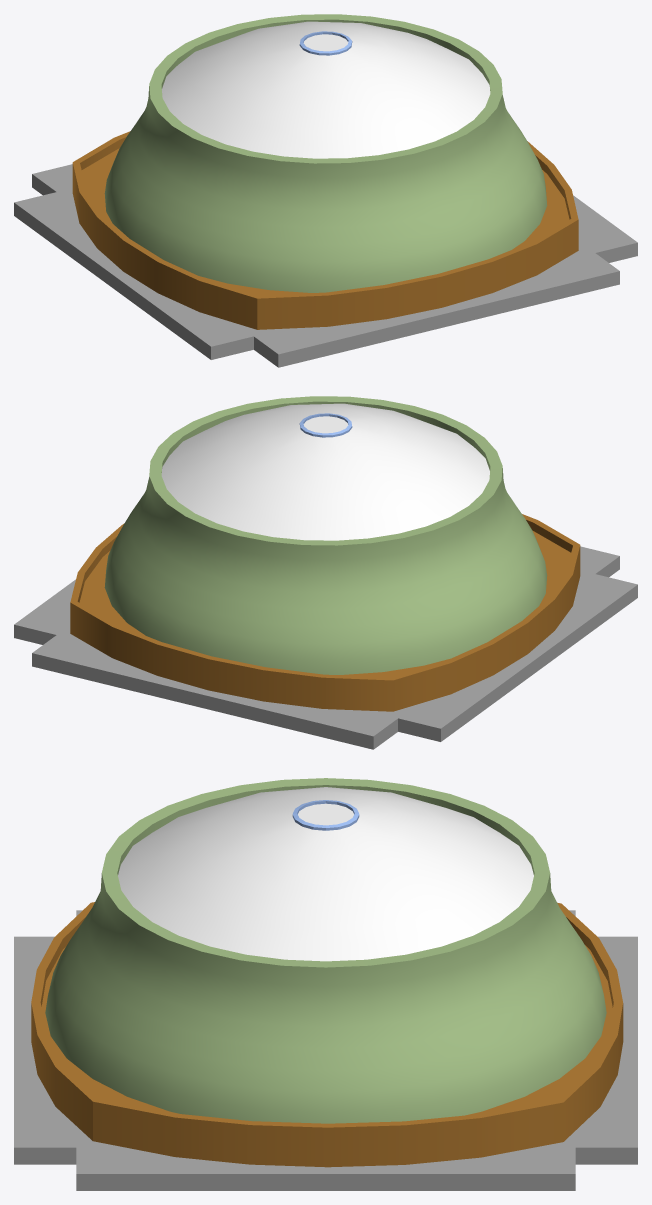
Rendered from Superdome.fbx.
3 views of the same model, one above another, from view 1: azimuth 30°, elevation 25°; view 2: azimuth 150°, elevation 25°; view 3: azimuth 270°, elevation 25° (orthographic). The views are drawn at different scales.
Parts seen in each view (by area): view 1: mesh_superdome; view 2: mesh_superdome; view 3: mesh_superdome.
Boxes of the visible parts, x1,y1,x2,y2 form: mesh_superdome: [14, 14, 637, 367]; mesh_superdome: [14, 396, 637, 749]; mesh_superdome: [14, 778, 637, 1190].
Size of the model in its own units: 20 by 8.69 by 20.
